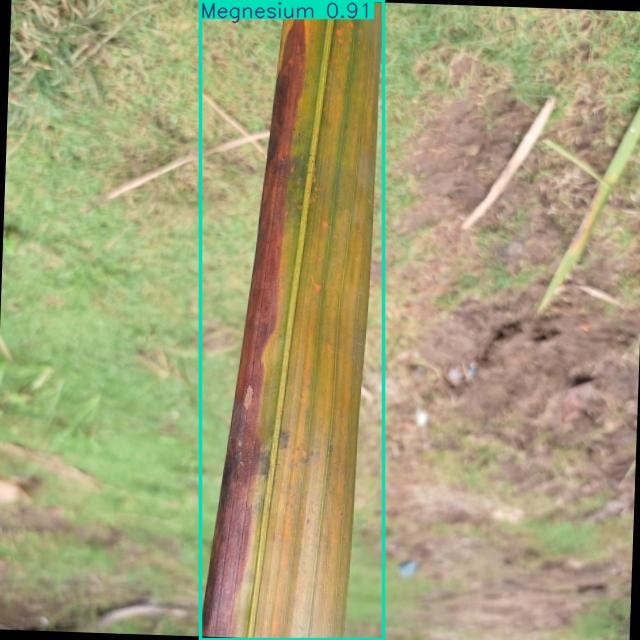Megnesium: (201, 0, 383, 640)
